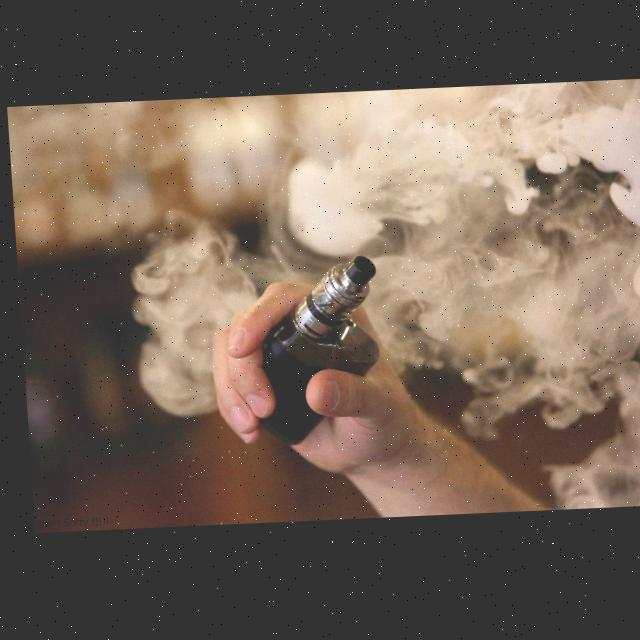vape: (244, 258, 382, 449)
